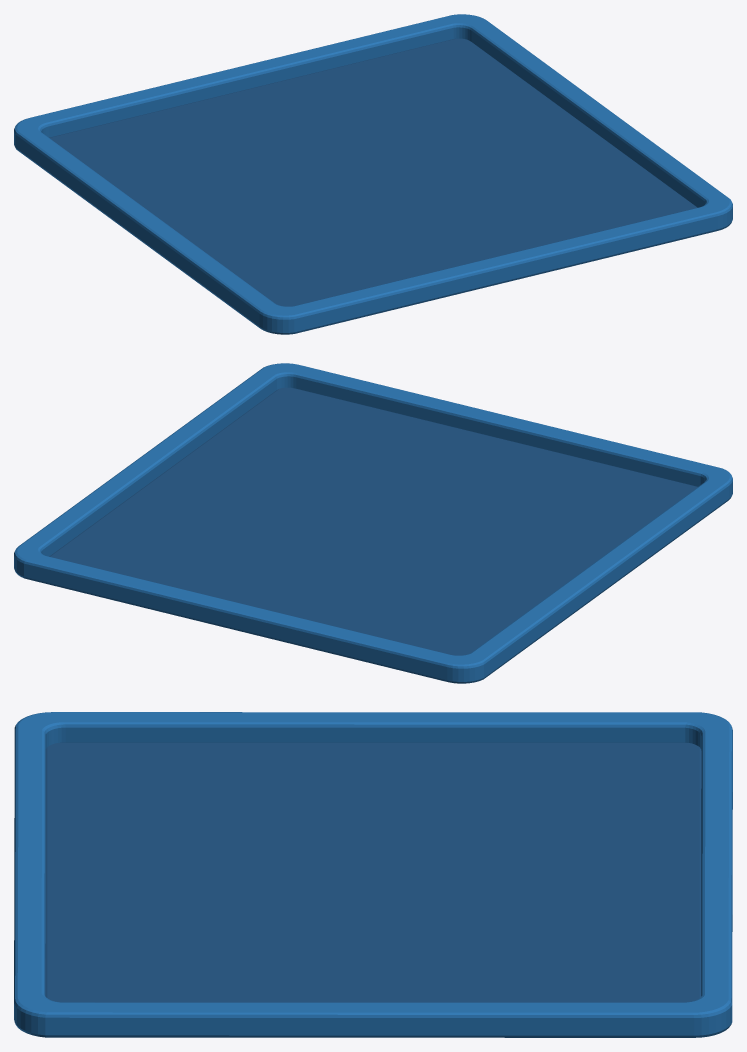
Rendered from PR3D_Board_7x7.fbx.
The picture shows the model from 3 angles, top to bottom: view 1: azimuth 30°, elevation 25°; view 2: azimuth 150°, elevation 25°; view 3: azimuth 270°, elevation 25°; orthographic projection. The views are drawn at different scales.
Parts seen in each view (by area): view 1: PR3D003_Visual_TrayBase, PR3D003_Visual_Frame; view 2: PR3D003_Visual_TrayBase, PR3D003_Visual_Frame; view 3: PR3D003_Visual_TrayBase, PR3D003_Visual_Frame.
Part boxes in pixels (x1=…): PR3D003_Visual_TrayBase: x1=49, y1=38, x2=697, y2=306; PR3D003_Visual_Frame: x1=14, y1=14, x2=732, y2=334; PR3D003_Visual_TrayBase: x1=49, y1=387, x2=697, y2=655; PR3D003_Visual_Frame: x1=14, y1=363, x2=732, y2=683; PR3D003_Visual_TrayBase: x1=45, y1=742, x2=701, y2=1002; PR3D003_Visual_Frame: x1=14, y1=712, x2=732, y2=1037.
Bounding box in the file's own units: 7.78 × 0.36 × 7.78.
